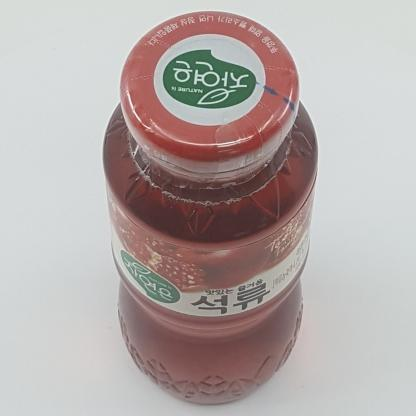-------180ML: (102, 10, 319, 405)
